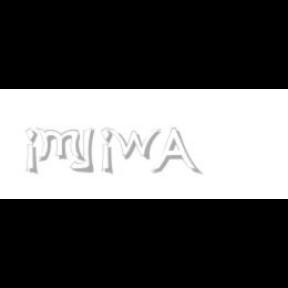A: (151, 128, 199, 176)
J: (70, 128, 94, 172)
i: (25, 128, 41, 176), (101, 128, 117, 176)
m: (35, 128, 87, 162)
w: (106, 128, 166, 160)
